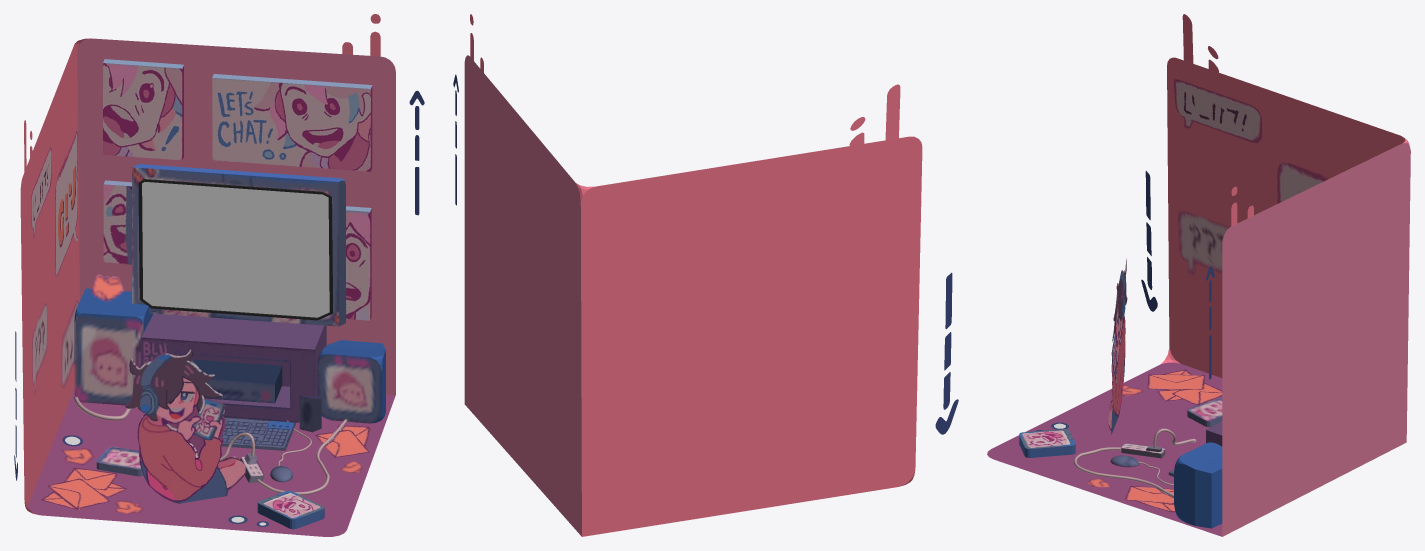
The model's file is blupixl room textured.glb.
The picture shows the model from 3 angles, left to right: view 1: azimuth 30°, elevation 25°; view 2: azimuth 150°, elevation 25°; view 3: azimuth 270°, elevation 25°; orthographic projection. The views are drawn at different scales.
Visible parts, largest first — view 1: Cube, Plane.003, Cube.011, Cube.018, Cube.005, Cube.010, Cube.017, Cube.014, Cube.016, Cube.013, Cube.025, Cube.012 (+15 smaller); view 2: Cube, Cube.028; view 3: Cube, Cube.016, Plane, Plane.001, Cube.018, Cube.001, Cube.009, Cube.003, Cube.020, Cube.028, Cube.002, Cube.007 (+1 smaller).
Part boxes in pixels (x1=…): Cube: x1=20, y1=14, x2=395, y2=536; Plane.003: x1=142, y1=182, x2=329, y2=317; Cube.011: x1=212, y1=74, x2=372, y2=171; Cube.018: x1=125, y1=349, x2=246, y2=503; Cube.005: x1=141, y1=313, x2=326, y2=422; Cube.010: x1=103, y1=59, x2=183, y2=160; Cube.017: x1=132, y1=164, x2=345, y2=326; Cube.014: x1=74, y1=288, x2=153, y2=405; Cube.016: x1=317, y1=340, x2=385, y2=423; Cube.013: x1=346, y1=206, x2=371, y2=320; Cube.025: x1=193, y1=359, x2=282, y2=403; Cube.012: x1=103, y1=180, x2=131, y2=264; Cube: x1=464, y1=14, x2=922, y2=536; Cube.028: x1=935, y1=272, x2=958, y2=434; Cube: x1=987, y1=14, x2=1410, y2=536; Cube.016: x1=1174, y1=442, x2=1222, y2=528; Plane: x1=1173, y1=79, x2=1262, y2=143; Plane.001: x1=1177, y1=210, x2=1229, y2=275; Cube.018: x1=1108, y1=258, x2=1127, y2=434; Cube.001: x1=1019, y1=429, x2=1075, y2=457; Cube.009: x1=1277, y1=162, x2=1330, y2=203; Cube.003: x1=1147, y1=374, x2=1205, y2=389; Cube.020: x1=1187, y1=398, x2=1222, y2=427; Cube.028: x1=1141, y1=171, x2=1157, y2=311; Cube.002: x1=1125, y1=486, x2=1173, y2=503; Cube.007: x1=1171, y1=383, x2=1222, y2=405.
Size of the model in its own units: 4.62 by 3.86 by 4.19.
58 materials, 30 textured.
